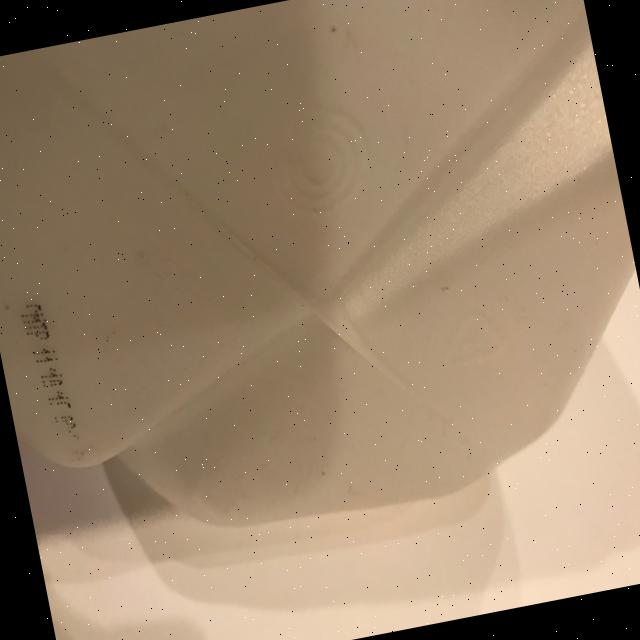plastic: (0, 0, 640, 582)
